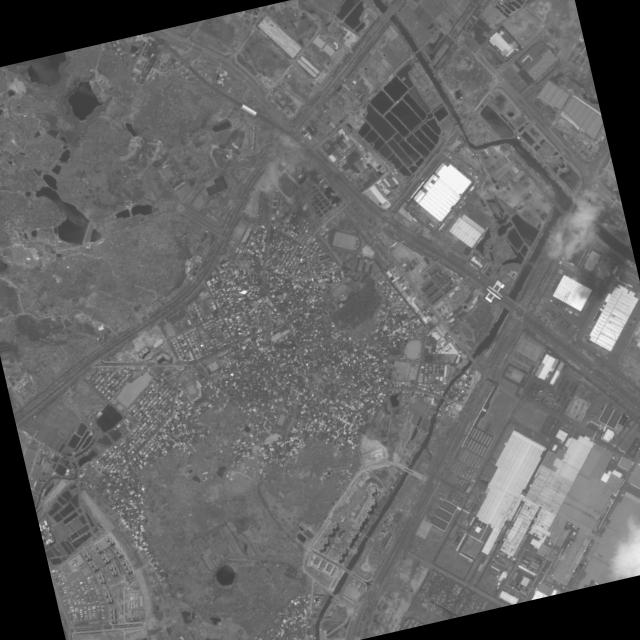storage-tank: (458, 204, 462, 208)
